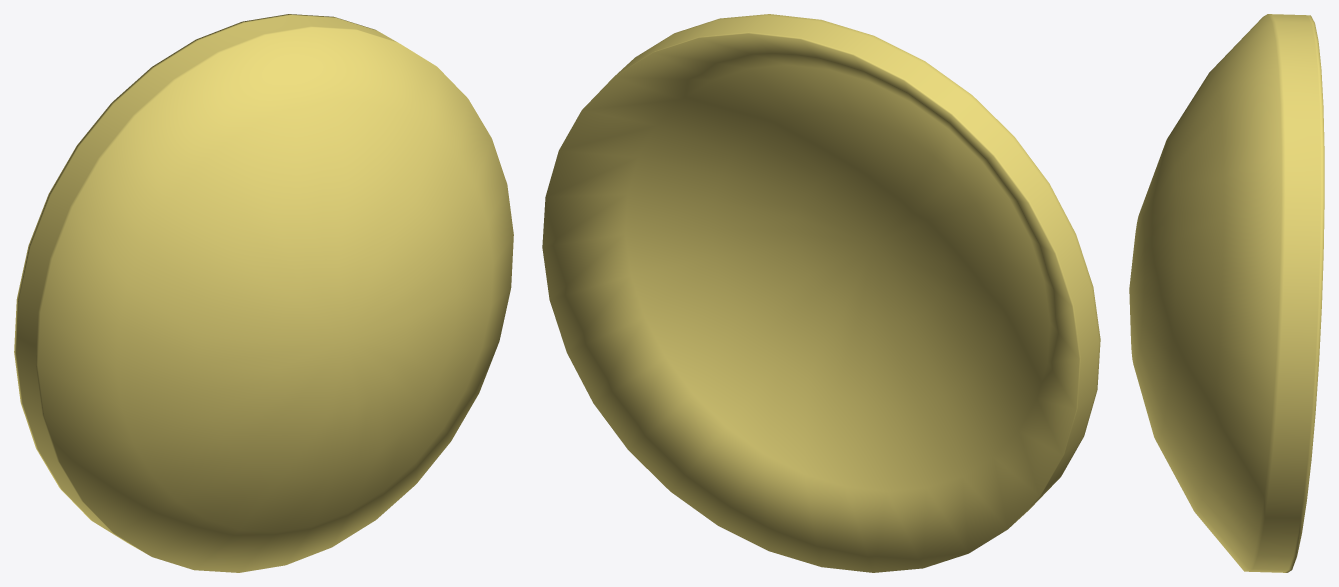
File: cornea-l.glb
The picture shows the model from 3 angles, left to right: view 1: azimuth 30°, elevation 25°; view 2: azimuth 150°, elevation 25°; view 3: azimuth 270°, elevation 25°; orthographic projection. The views are drawn at different scales.
Visible parts, largest first — view 1: Cornea.l; view 2: Cornea.l; view 3: Cornea.l.
Part boxes in pixels (<box>): Cornea.l: <box>14,14,513,572</box>; Cornea.l: <box>542,14,1100,572</box>; Cornea.l: <box>1129,14,1324,572</box>.
Bounding box in the file's own units: 0.0143 × 0.0143 × 0.00498.
